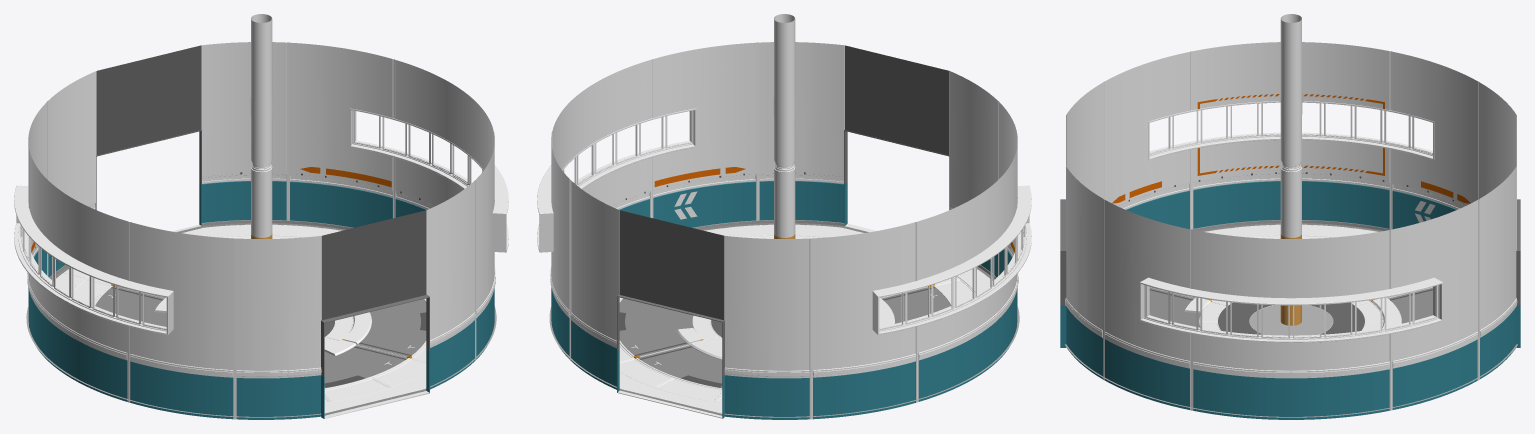
3 views of the same model, side by side, from view 1: azimuth 30°, elevation 25°; view 2: azimuth 150°, elevation 25°; view 3: azimuth 270°, elevation 25° (orthographic).
Visible parts, largest first — view 1: SM_H_Building_FutureTech_HOrange_01_InterWall_05; view 2: SM_H_Building_FutureTech_HOrange_01_InterWall_05; view 3: SM_H_Building_FutureTech_HOrange_01_InterWall_05.
Boxes of the visible parts, left/top/right/bottom form: SM_H_Building_FutureTech_HOrange_01_InterWall_05: left=14, top=14, right=508, bottom=419; SM_H_Building_FutureTech_HOrange_01_InterWall_05: left=537, top=14, right=1031, bottom=419; SM_H_Building_FutureTech_HOrange_01_InterWall_05: left=1060, top=14, right=1520, bottom=419.
Bounding box in the file's own units: 798 × 858 × 584.
